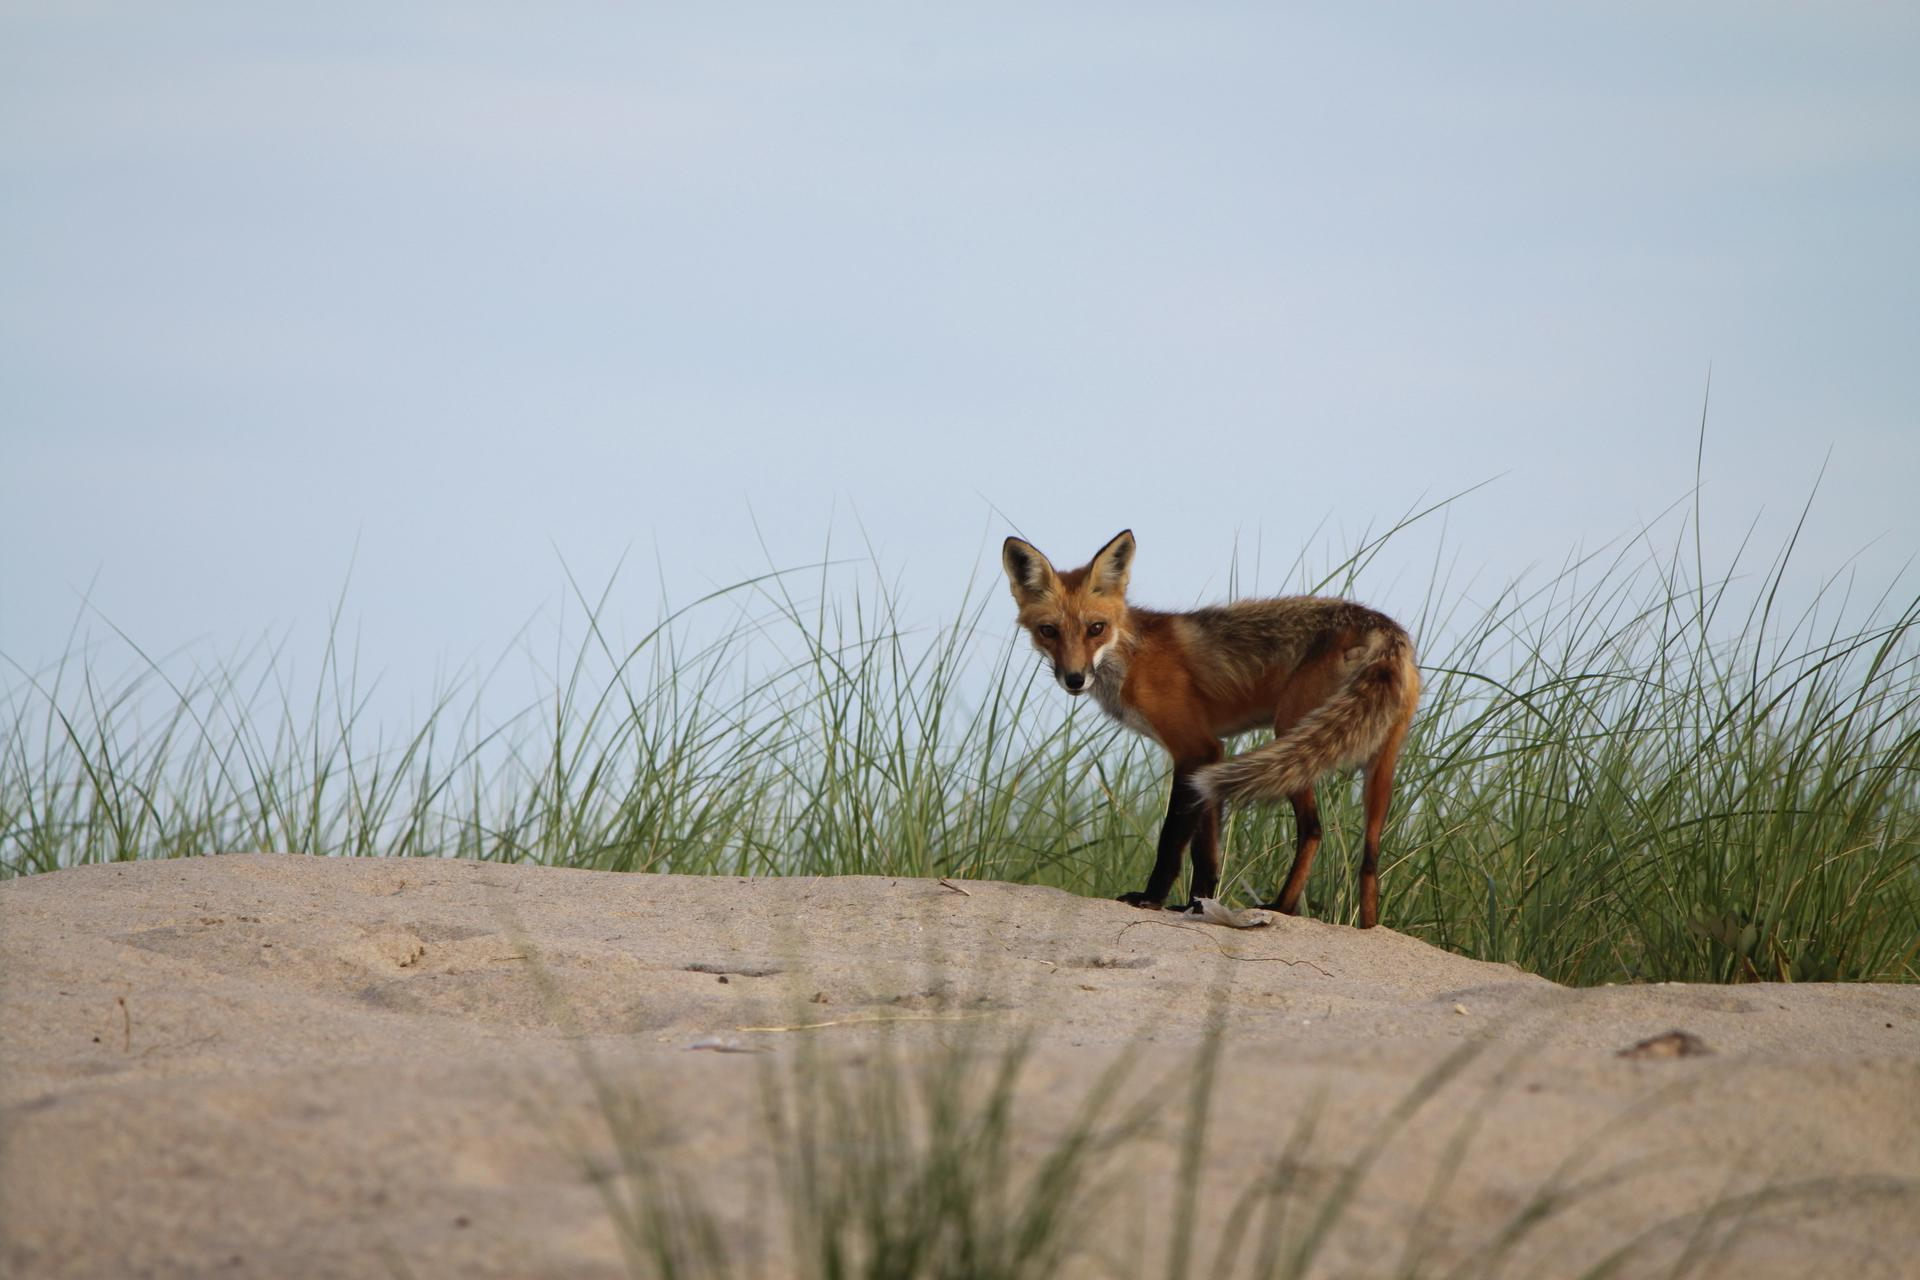fox: (1000, 521, 1454, 937)
